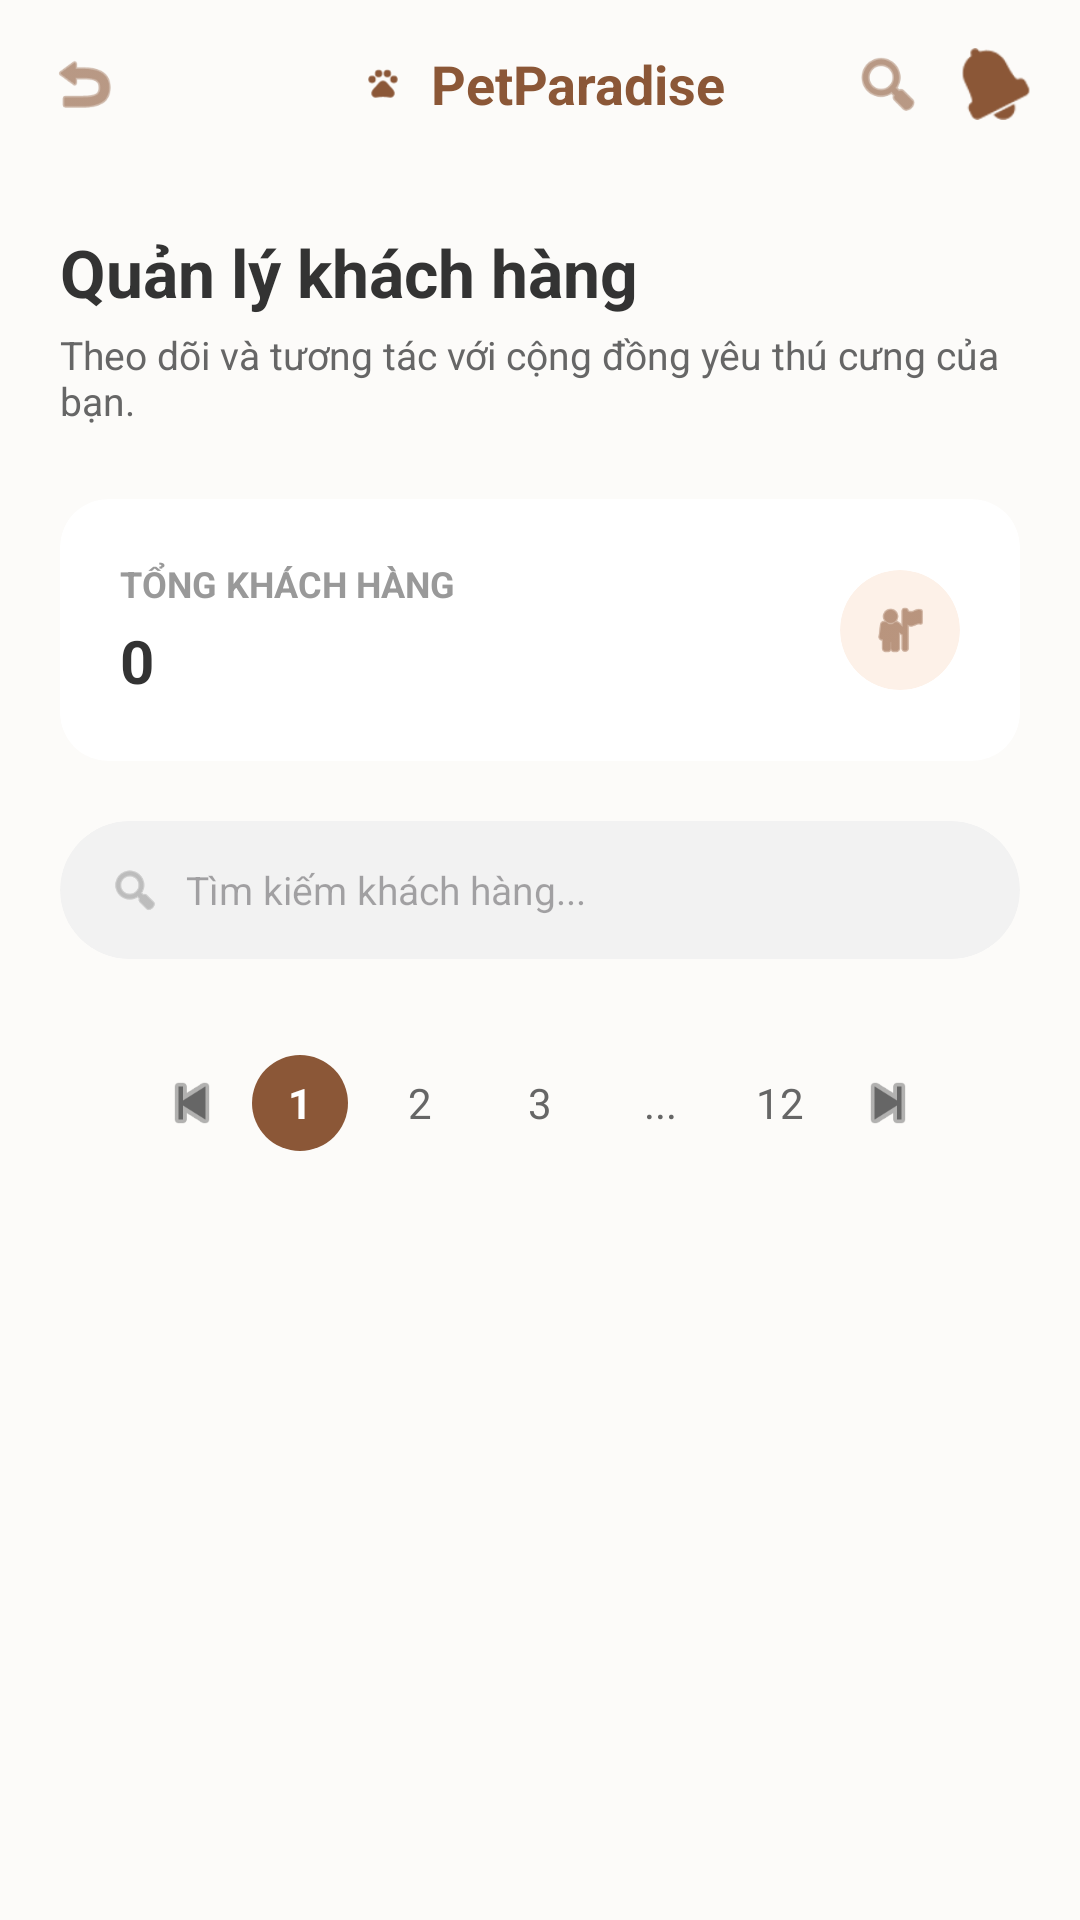

Icon click points for this 1080w x 1920h phone screenshot, format (x,y):
next: (888,1103)
popup reminder: (996,84)
previous: (192,1103)
revert: (85,84)
search: (888,84), (135,890)
